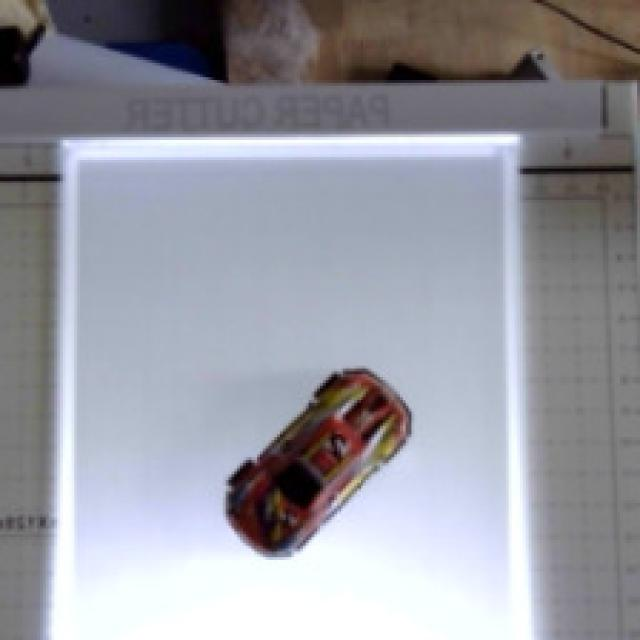Red Car: (158, 328, 455, 610)
